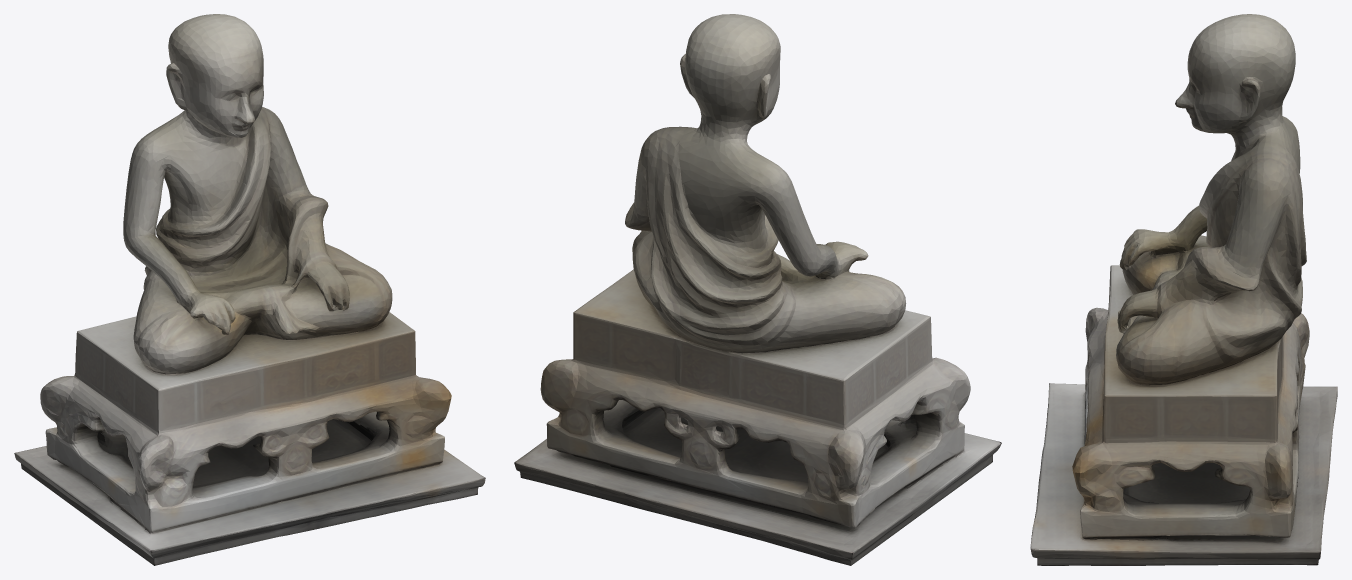
Rendered from tuong.glb.
The picture shows the model from 3 angles, left to right: view 1: azimuth 30°, elevation 25°; view 2: azimuth 150°, elevation 25°; view 3: azimuth 270°, elevation 25°; orthographic projection. The views are drawn at different scales.
Visible parts, largest first — view 1: world; view 2: world; view 3: world.
Boxes of the visible parts, x1,y1,x2,y2 form: world: (14,14,485,565); world: (514,14,1001,565); world: (1030,14,1337,565).
Bounding box in the file's own units: 0.7734 × 1 × 0.6027.
1 material, 1 textured.
